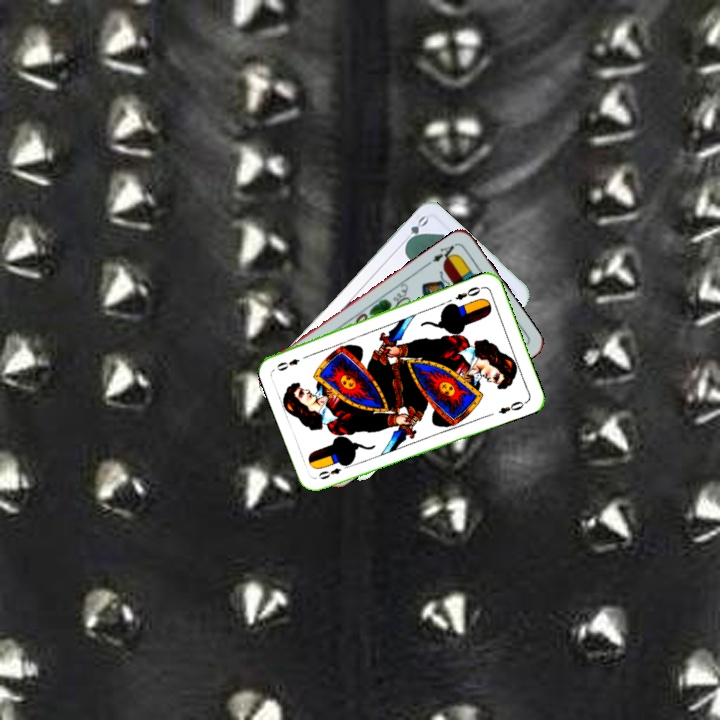EA: (428, 240, 459, 266)
EO: (314, 459, 352, 482), (451, 282, 486, 303)
GO: (398, 212, 431, 248)
